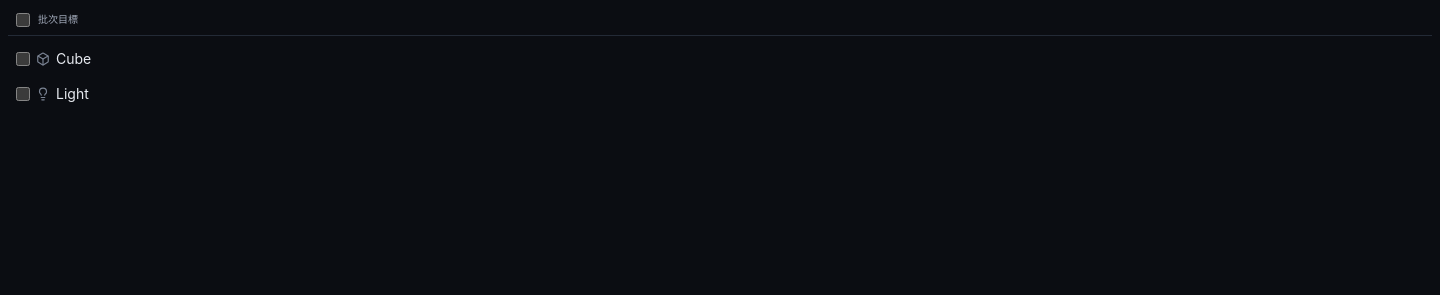
Test: ObjectListNode batch targets › supports select all, partial indeterminate state, and clear
Expected: the button "Cube" is shown, [56,48,1333,68]
Click the checkbox named "全選場景物件". click: (23, 20)
box: [16,12,30,26]
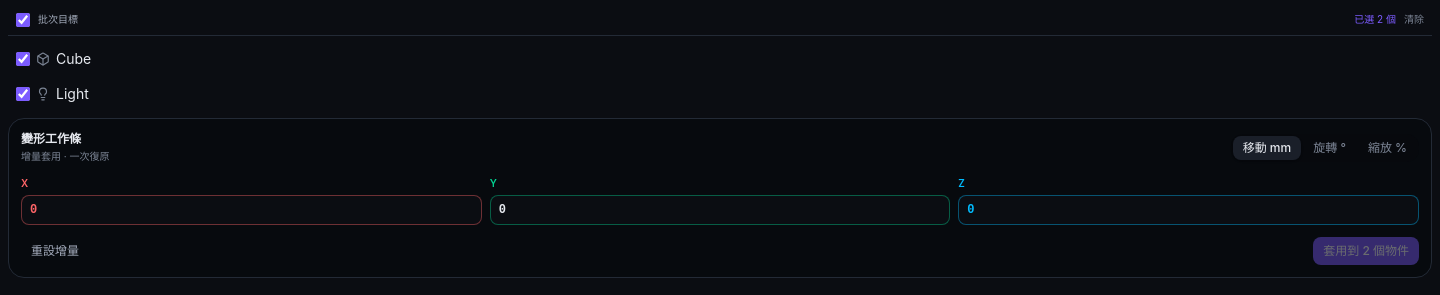
Expected: the text "已選 2 個" is shown, [1354,12,1396,27]
Expected: the checkbox named "選取 Cube" is checked
Click the checkbox named "選取 Cube". click: (23, 58)
box: [16,52,30,66]
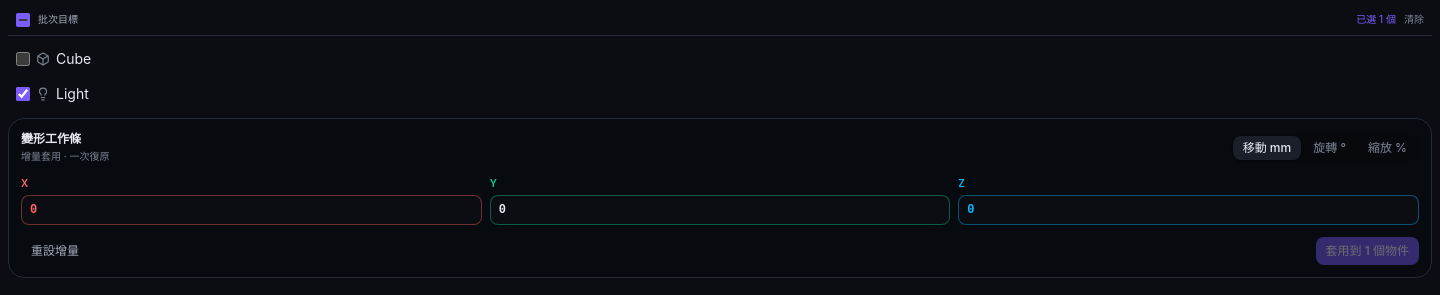
Expected: the text "已選 1 個" is shown, [1356,12,1396,27]
Click the button with aria-label "清除批次目標". click: (1414, 20)
box: [1404,12,1424,27]
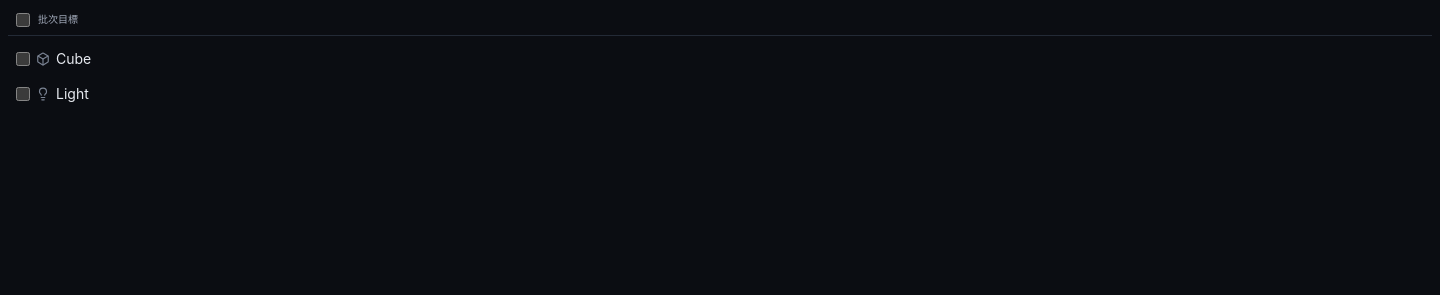
Expected: the checkbox named "全選場景物件" is not checked, [16,12,30,26]
Expected: the text "已選" is gone
